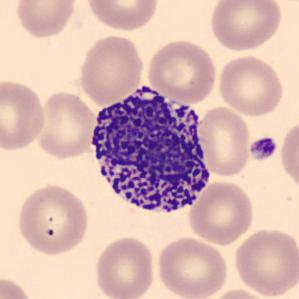Basophil: (84, 79, 217, 225)
Platelets: (248, 135, 280, 162)
RBC: (14, 182, 92, 257), (76, 33, 146, 105), (145, 37, 219, 104), (154, 234, 229, 299), (231, 226, 298, 298), (186, 178, 256, 246), (216, 53, 286, 118), (35, 89, 97, 160), (92, 233, 156, 299), (196, 105, 252, 178), (208, 0, 284, 53), (0, 78, 48, 152), (12, 0, 80, 40), (85, 0, 161, 32), (278, 118, 299, 194), (0, 274, 36, 299), (205, 286, 273, 299), (269, 0, 299, 9)
